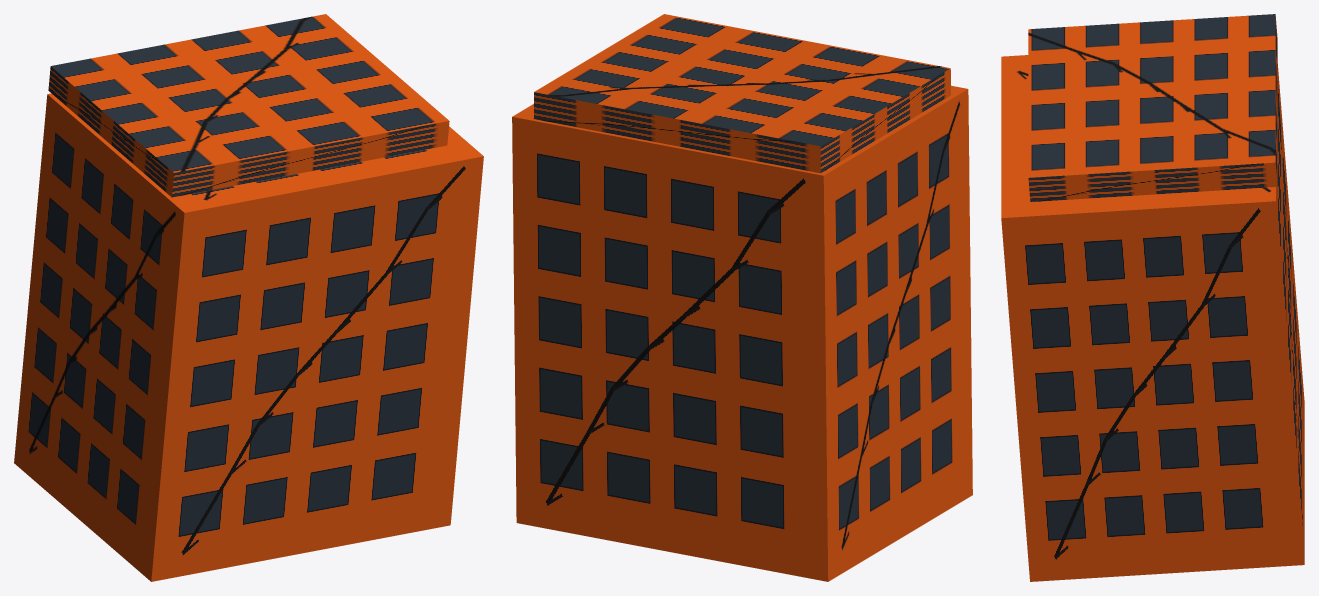
File: building_major_damage.glb
The picture shows the model from 3 angles, left to right: view 1: azimuth 30°, elevation 25°; view 2: azimuth 150°, elevation 25°; view 3: azimuth 270°, elevation 25°; orthographic projection. The views are drawn at different scales.
Parts seen in each view (by area): view 1: DamageModel; view 2: DamageModel; view 3: DamageModel.
Boxes of the visible parts, x1,y1,x2,y2 form: DamageModel: (14, 14, 483, 581); DamageModel: (512, 14, 972, 581); DamageModel: (1001, 14, 1304, 581).
Size of the model in its own units: 10.64 by 13.91 by 8.82.
Materials: 1 (1 with a texture image).
